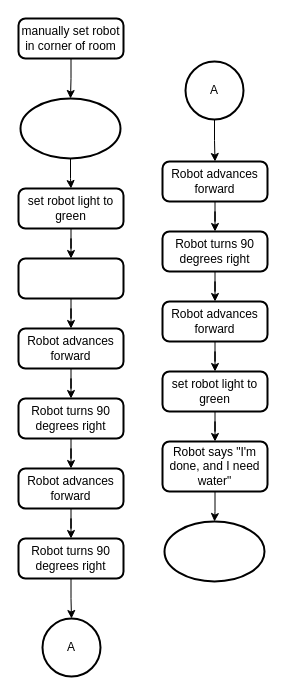
The diagram is 285 pixels wide and 694 high, and some of its shapes have lost their labels. The centre of each missing label's shape, as x and y in pixels:
End: (214,551)
Robot says "Ready, set, go": (70,278)
Start: (70,128)
